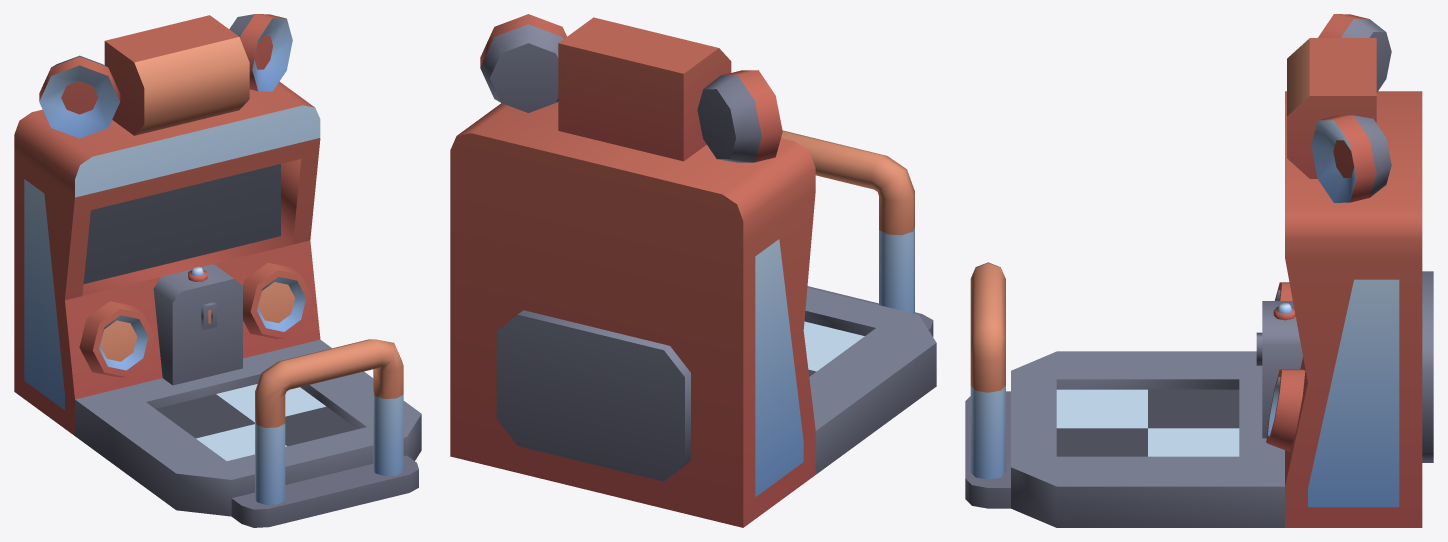
File: dance-machine.obj
The picture shows the model from 3 angles, left to right: view 1: azimuth 30°, elevation 25°; view 2: azimuth 150°, elevation 25°; view 3: azimuth 270°, elevation 25°; orthographic projection. The views are drawn at different scales.
Visible parts, largest first — view 1: dance-machine; view 2: dance-machine, Group; view 3: dance-machine, Group.
Boxes of the visible parts, x1,y1,x2,y2 form: dance-machine: [14, 14, 421, 527]; dance-machine: [450, 14, 936, 527]; Group: [496, 310, 690, 481]; dance-machine: [965, 14, 1422, 527]; Group: [1422, 271, 1433, 462].
Bounding box in the file's own units: 0.7232 × 0.95 × 1.02.
